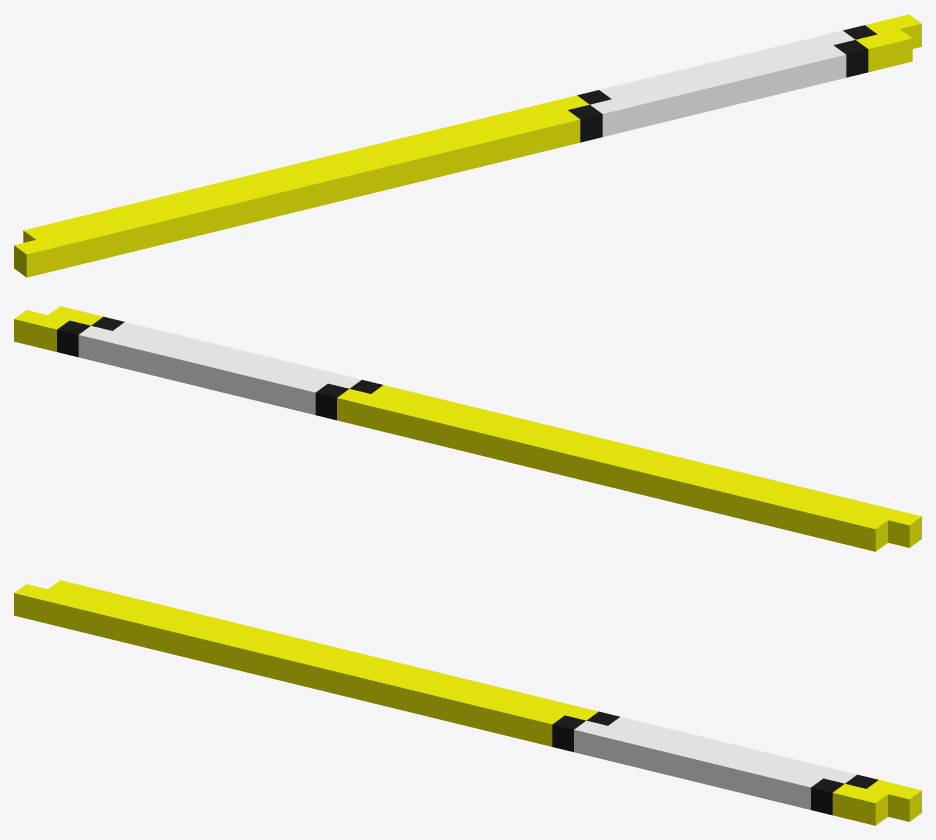
Rendered from Weapons-0.obj.
3 renders of one model, top to bottom at view 1: azimuth 30°, elevation 25°; view 2: azimuth 150°, elevation 25°; view 3: azimuth 330°, elevation 25°, orthographic. The views are drawn at different scales.
Size of the model in its own units: 4.1 by 0.1 by 0.2.
